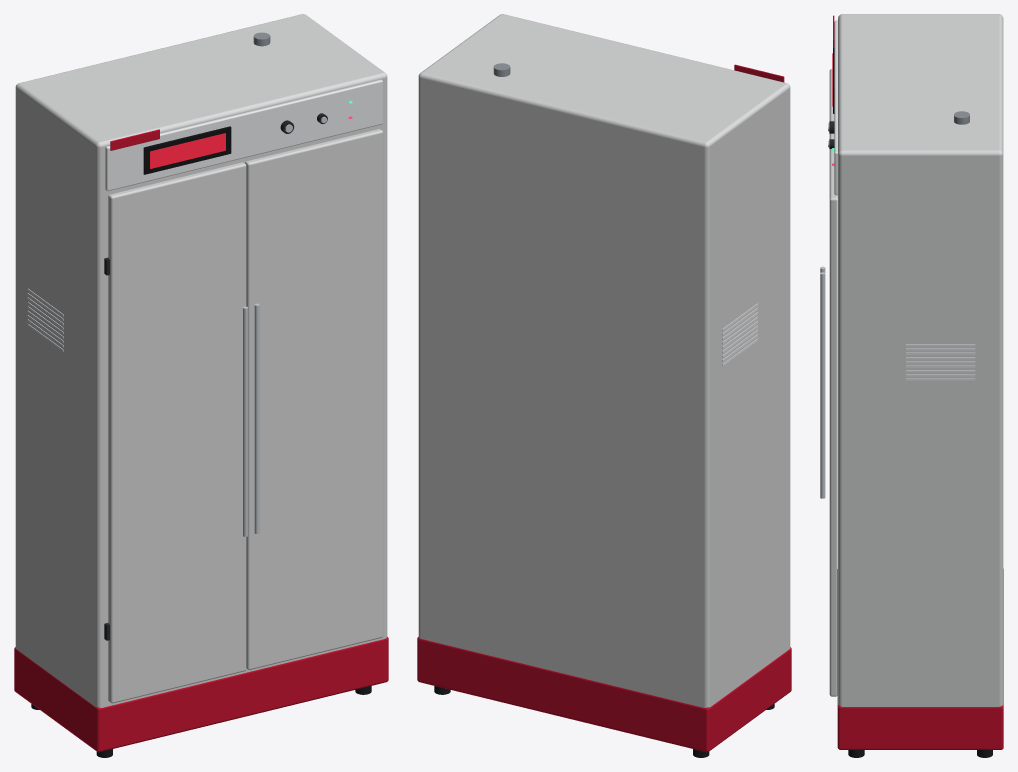
The model's file is nks-2.glb.
The picture shows the model from 3 angles, left to right: view 1: azimuth 30°, elevation 25°; view 2: azimuth 150°, elevation 25°; view 3: azimuth 270°, elevation 25°; orthographic projection.
Size of the model in its own units: 0.9036 by 1.86 by 0.5005.
